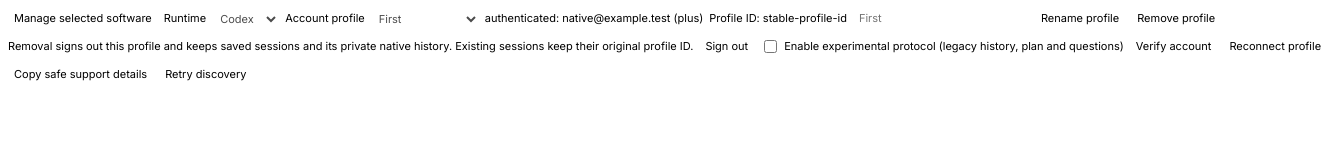
Test case: bound session displays native account and stable ID, rename keeps binding and removal leaves explicit missing state
The image size is (1338, 160).
Check: the dropdown labelled "Runtime" is disabled, box [210,8,279,30]
Type "Updated" into the field named "Rename profile" at point(941, 19), box [853,8,1029,30]
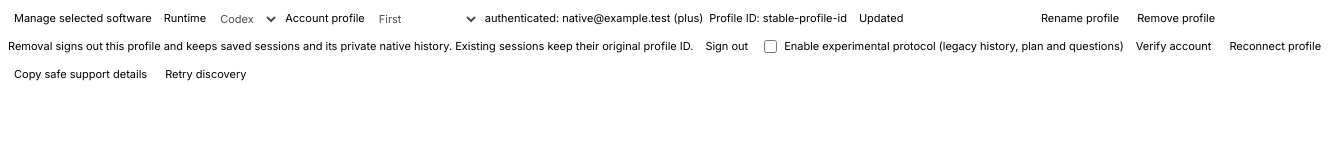
Click the button "Rename profile" at point(1080, 19), box [1035,8,1125,30]
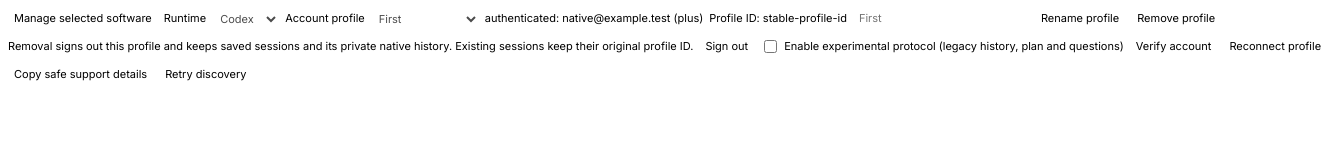
Click the button "Remove profile" at point(1176, 19), box [1131,8,1221,30]
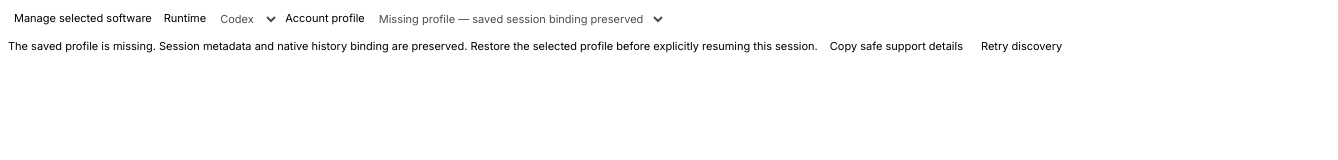
Check: the text "saved profile is missing" is shown, box [8,39,818,53]
